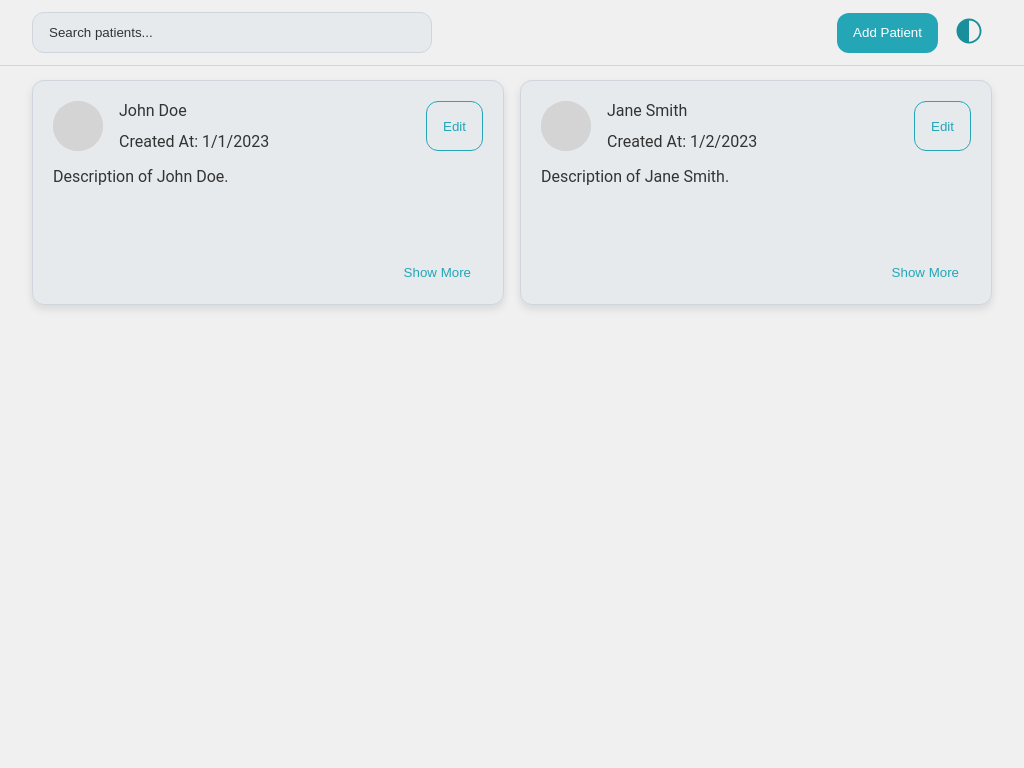
it: Patient Management › should display a success notification on successful data modification
Step 1. Click the button "Edit" next to "1/1/2023" → click(455, 126), box left=426, top=101, right=483, bottom=151
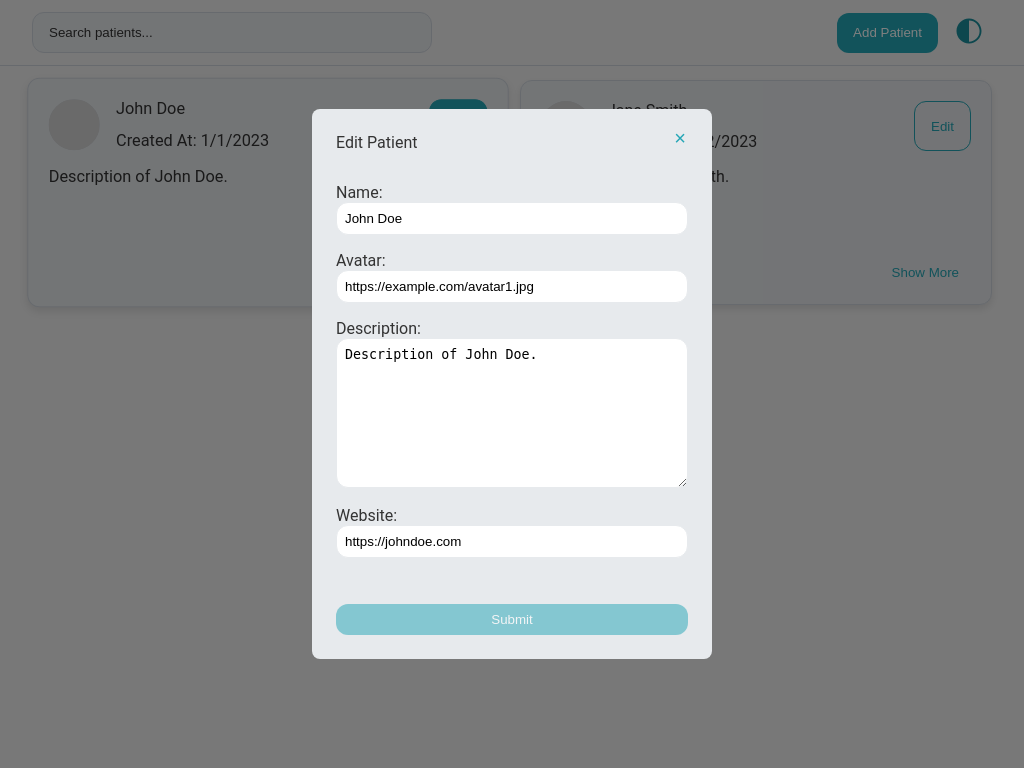
Step 2. Replace the text in the field named "name" below "Name" with "Jane Doe" → (512, 219), box left=336, top=202, right=688, bottom=235
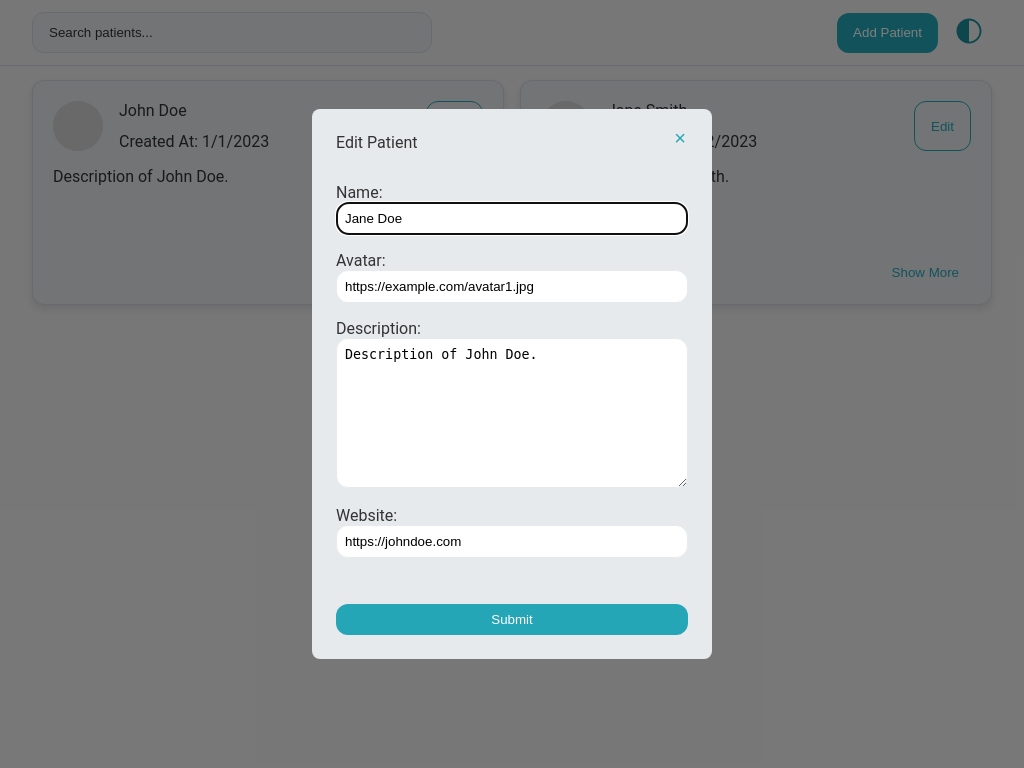
Step 3. Click the submit button → click(512, 620), box left=336, top=604, right=688, bottom=635
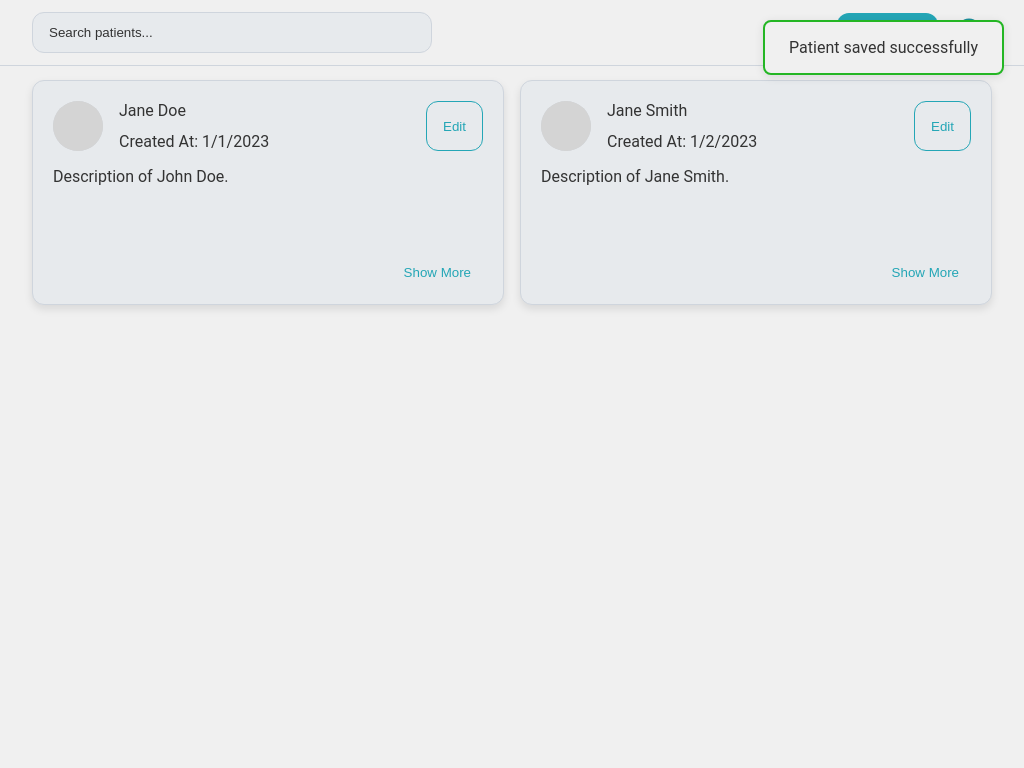
Now the text "Patient saved successfully" is shown, box left=763, top=20, right=1004, bottom=75
